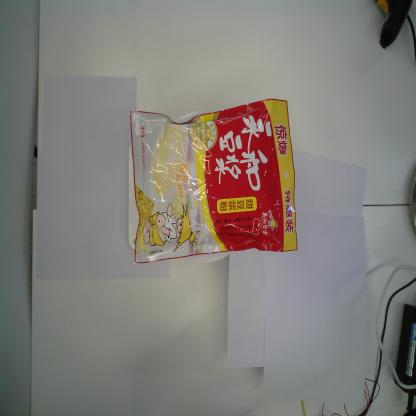Instant Drink: (128, 98, 298, 264)
